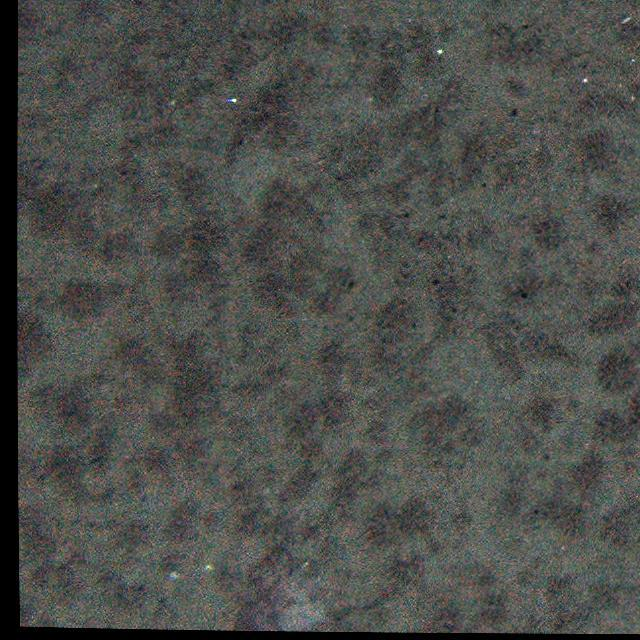flatfish: (222, 586, 334, 632)
